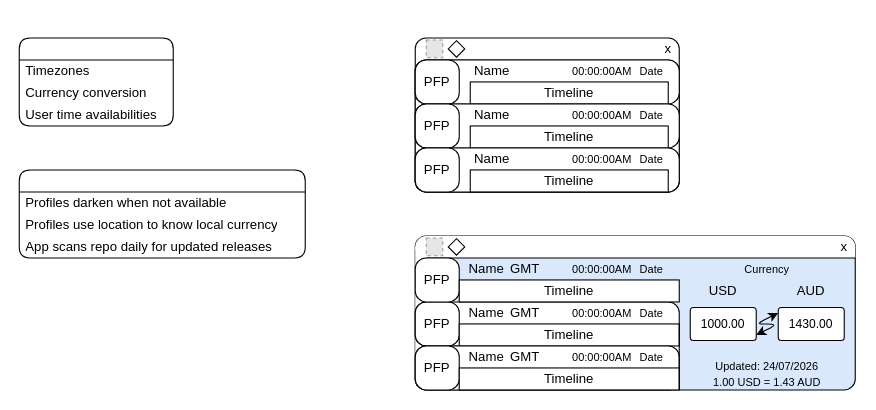
This 876x410 diagram has some shape labels left out. Grey dashed boxes stand in for pictures. The box of each missing label's shape, as (x1, y1, x2, y2) in pixels:
Converter Enabled: (414, 235, 855, 390)
Features: (18, 37, 173, 126)
QOL Features: (18, 169, 305, 258)
Standard: (414, 37, 679, 192)
